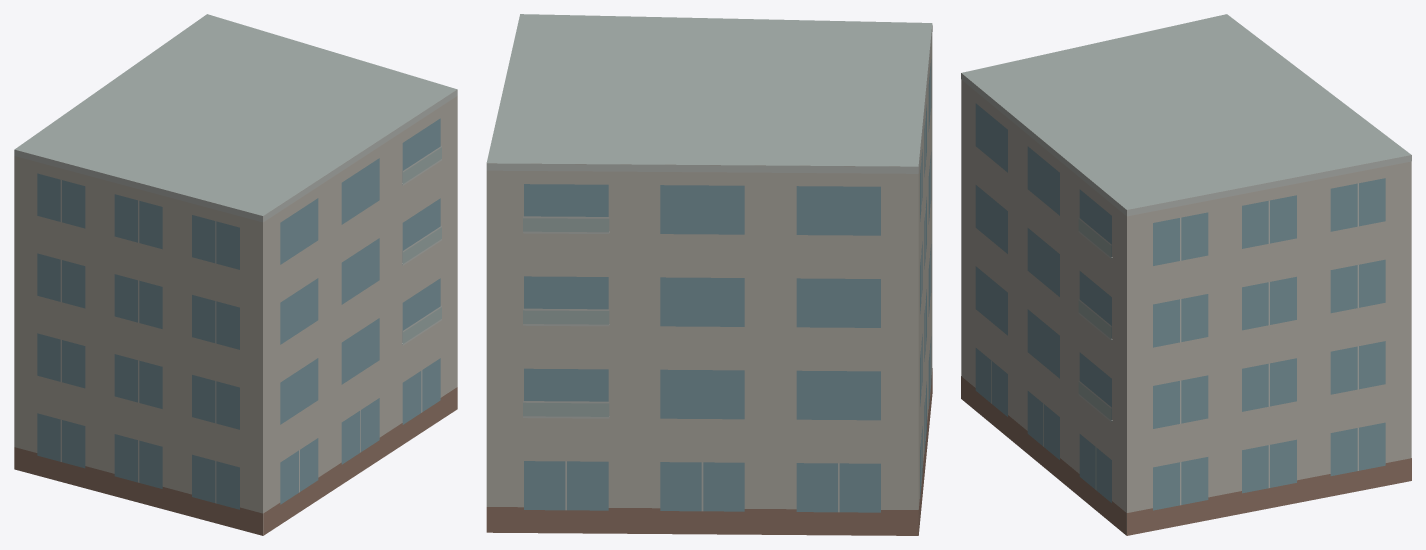
Rendered from survey-upis-32764865.glb.
3 views of the same model, side by side, from view 1: azimuth 30°, elevation 25°; view 2: azimuth 150°, elevation 25°; view 3: azimuth 270°, elevation 25° (orthographic). The views are drawn at different scales.
Parts seen in each view (by area): view 1: survey-upis-32764865.tmp; view 2: survey-upis-32764865.tmp; view 3: survey-upis-32764865.tmp.
Part boxes in pixels (<box>): survey-upis-32764865.tmp: <box>14,14,457,535</box>; survey-upis-32764865.tmp: <box>486,14,932,535</box>; survey-upis-32764865.tmp: <box>961,14,1411,535</box>.
Size of the model in its own units: 15.87 by 12.3 by 15.42.
